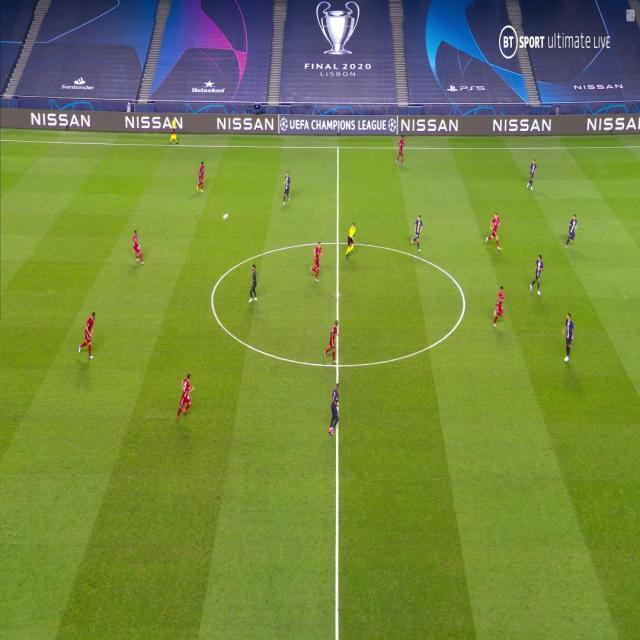ball: (223, 212, 229, 222)
player: (175, 372, 195, 421), (78, 311, 97, 362), (323, 319, 340, 366), (326, 385, 341, 437), (485, 211, 503, 252), (491, 284, 507, 329), (562, 311, 575, 364), (309, 239, 324, 283), (529, 254, 545, 295), (410, 213, 424, 250), (132, 229, 146, 266), (565, 213, 578, 249), (395, 132, 408, 167), (249, 264, 259, 304), (526, 158, 538, 190), (196, 160, 206, 193), (283, 171, 292, 206)
referee: (345, 222, 358, 260), (169, 115, 181, 146)
